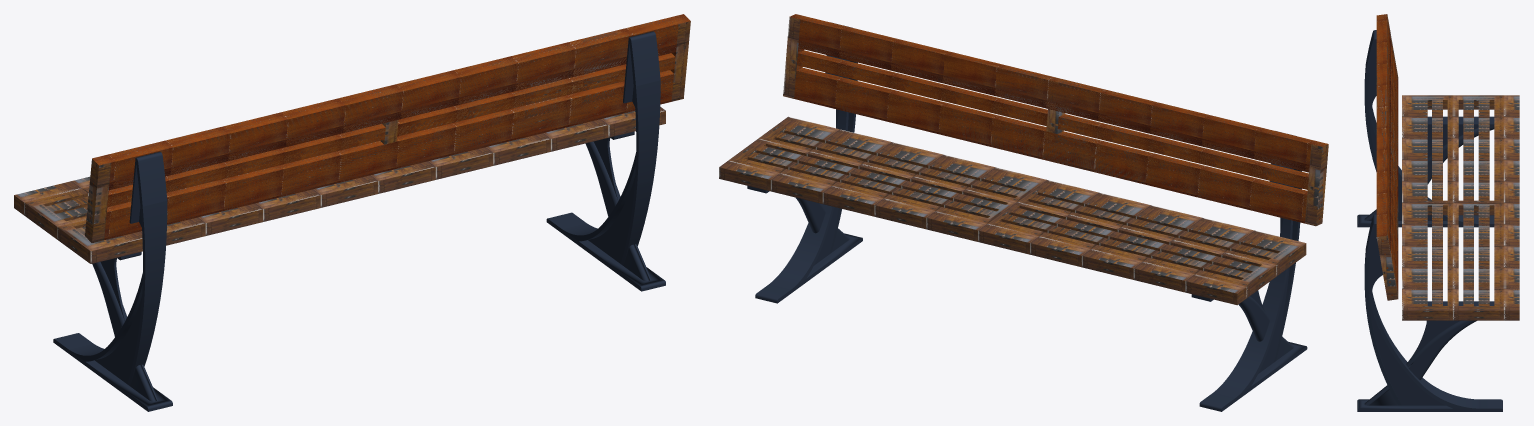
3 renders of one model, left to right at view 1: azimuth 30°, elevation 25°; view 2: azimuth 150°, elevation 25°; view 3: azimuth 270°, elevation 25°, orthographic. The views are drawn at different scales.
Parts seen in each view (by area): view 1: mesh1_mesh1-geometry, mesh27_mesh27-geometry, mesh45_mesh45-geometry, mesh92_mesh92-geometry; view 2: mesh1_mesh1-geometry, mesh27_mesh27-geometry, mesh92_mesh92-geometry, mesh45_mesh45-geometry; view 3: mesh27_mesh27-geometry, mesh45_mesh45-geometry, mesh1_mesh1-geometry, mesh92_mesh92-geometry.
Boxes of the visible parts, left/top/right/bottom form: mesh1_mesh1-geometry: left=85, top=14, right=690, bottom=242; mesh27_mesh27-geometry: left=14, top=107, right=665, bottom=263; mesh45_mesh45-geometry: left=546, top=31, right=665, bottom=291; mesh92_mesh92-geometry: left=53, top=152, right=172, bottom=411; mesh1_mesh1-geometry: left=783, top=14, right=1328, bottom=226; mesh27_mesh27-geometry: left=719, top=116, right=1306, bottom=305; mesh92_mesh92-geometry: left=1191, top=131, right=1307, bottom=411; mesh45_mesh45-geometry: left=747, top=22, right=862, bottom=303; mesh27_mesh27-geometry: left=1402, top=95, right=1519, bottom=320; mesh45_mesh45-geometry: left=1357, top=214, right=1502, bottom=411; mesh1_mesh1-geometry: left=1376, top=14, right=1398, bottom=300; mesh92_mesh92-geometry: left=1357, top=30, right=1494, bottom=227.
Size of the model in its own units: 0.8921 by 0.3574 by 0.2763.
